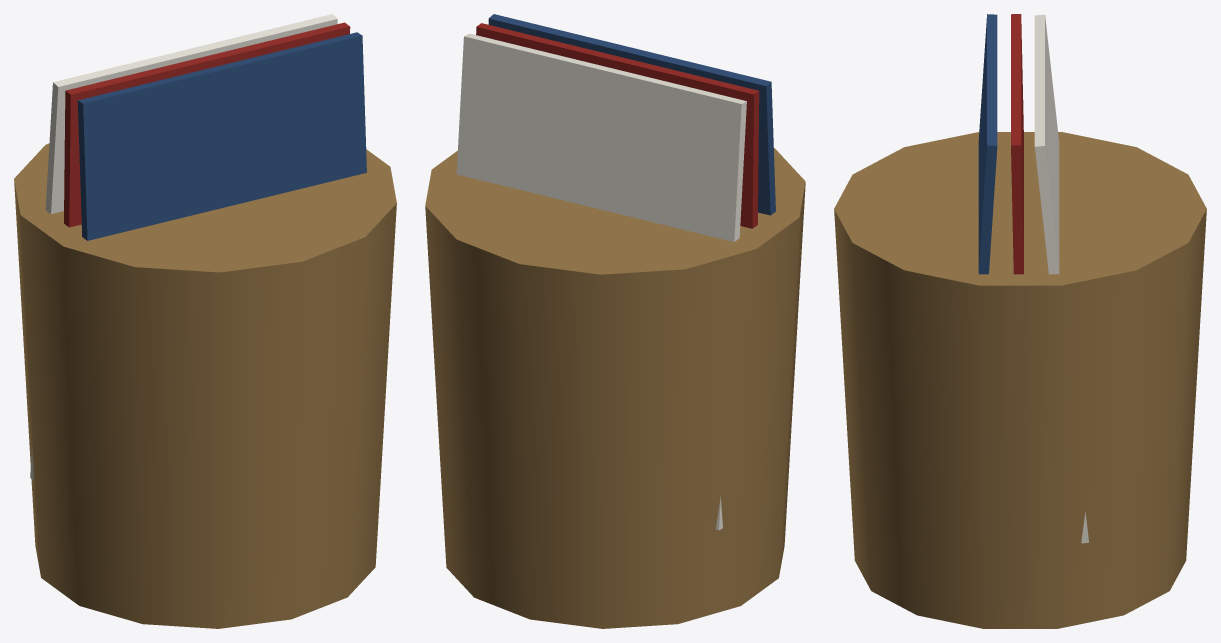
File: old-magazines-every-face.glb
3 views of the same model, side by side, from view 1: azimuth 30°, elevation 25°; view 2: azimuth 150°, elevation 25°; view 3: azimuth 270°, elevation 25° (orthographic). The views are drawn at different scales.
Bounding box in the file's own units: 0.7019 × 1.03 × 0.72.
